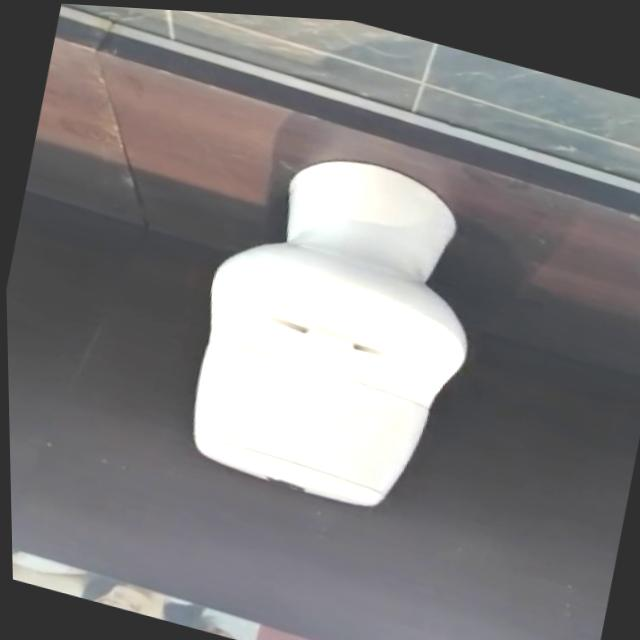toilet: (168, 122, 502, 526)
